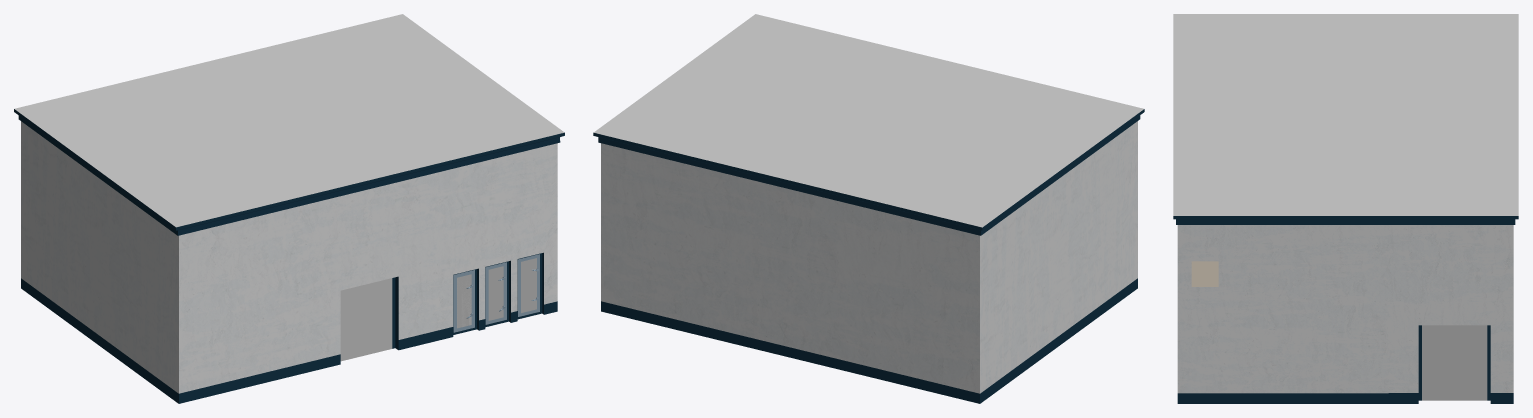
Rendered from edap-service-building_LOD00.gltf.
The picture shows the model from 3 angles, left to right: view 1: azimuth 30°, elevation 25°; view 2: azimuth 150°, elevation 25°; view 3: azimuth 270°, elevation 25°; orthographic projection. The views are drawn at different scales.
Visible parts, largest first — view 1: body, roof; view 2: body, roof; view 3: roof, body, vent.
Boxes of the visible parts, box(x1,y1,x2,y2) form: body: box(21, 121, 557, 403); roof: box(14, 14, 564, 235); body: box(601, 121, 1137, 403); roof: box(593, 14, 1144, 235); roof: box(1173, 14, 1518, 224); body: box(1177, 225, 1513, 403); vent: box(1191, 261, 1218, 286).
Size of the model in its own units: 12.1 by 5.33 by 8.74.
